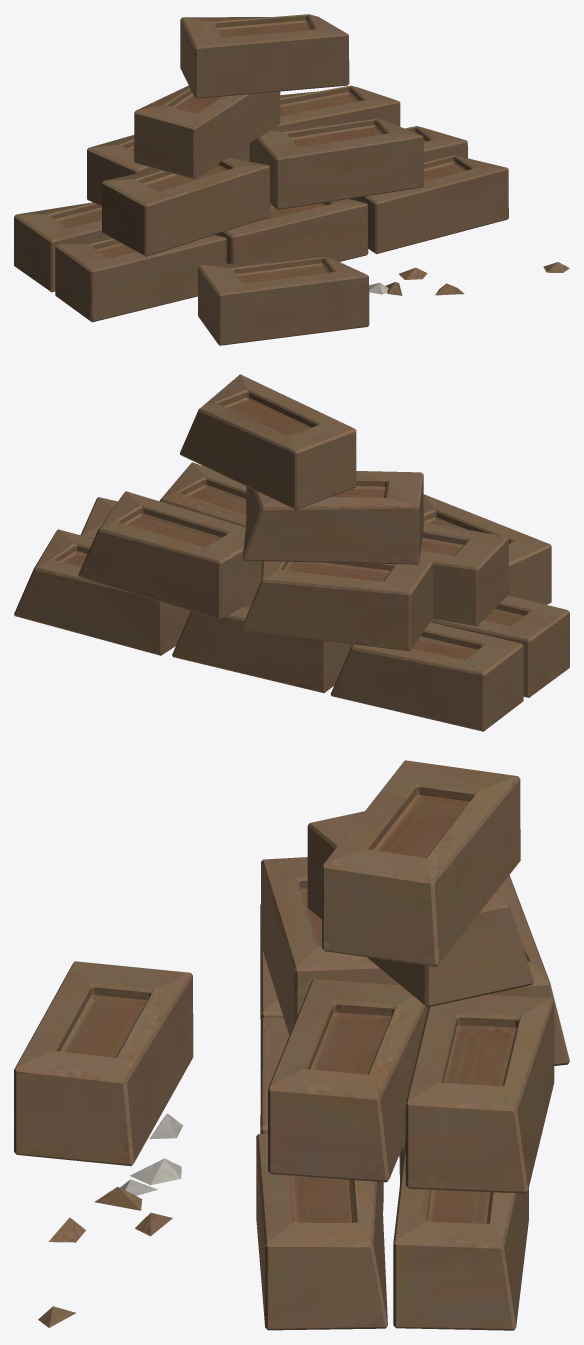
The model's file is D19_brick_pile_v2.glb.
3 views of the same model, one above another, from view 1: azimuth 30°, elevation 25°; view 2: azimuth 150°, elevation 25°; view 3: azimuth 270°, elevation 25° (orthographic). The views are drawn at different scales.
Parts seen in each view (by area): view 1: Weathered base brick; view 2: Weathered base brick; view 3: Weathered base brick.
Boxes of the visible parts, x1,y1,x2,y2 form: Weathered base brick: (14, 14, 569, 345); Weathered base brick: (14, 374, 569, 731); Weathered base brick: (14, 760, 569, 1330).
Size of the model in its own units: 0.8 by 0.3794 by 0.5468.
3 materials, 3 textured.
